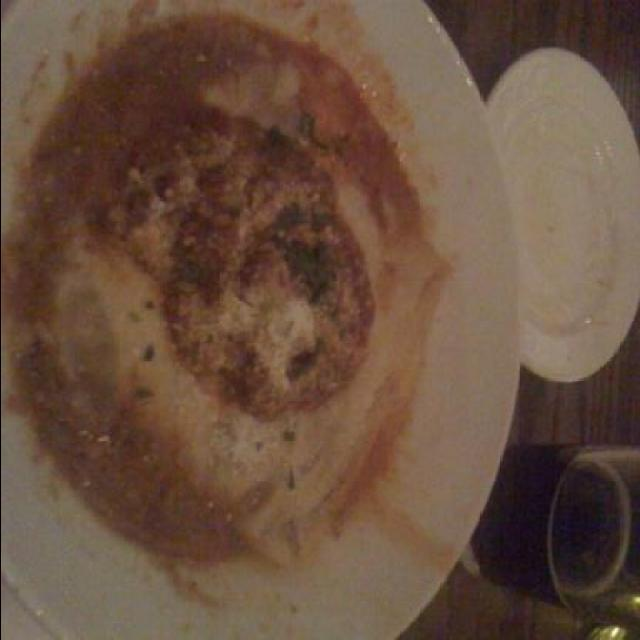Lasagna: (81, 62, 410, 546)
